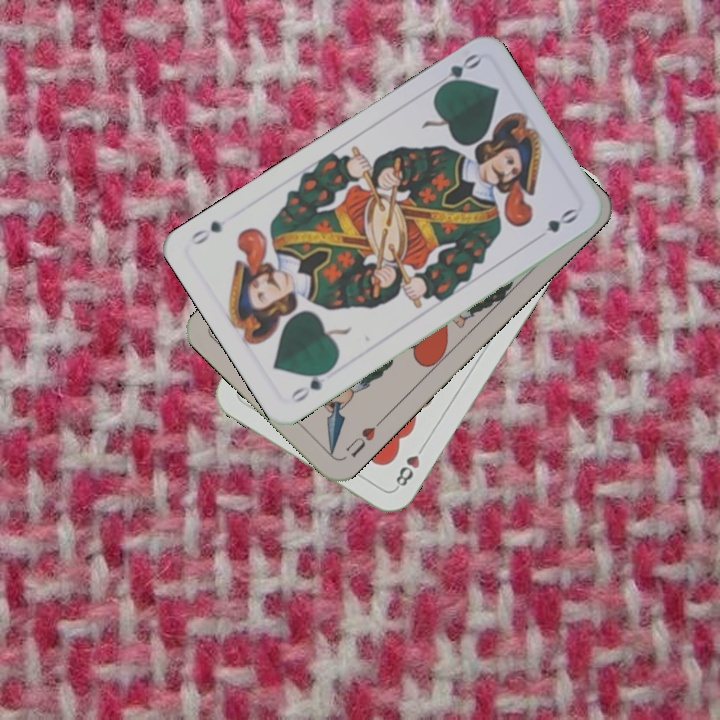GO: (433, 49, 483, 94), (286, 363, 336, 406)
H8: (391, 439, 428, 492)
HU: (341, 415, 386, 461)
